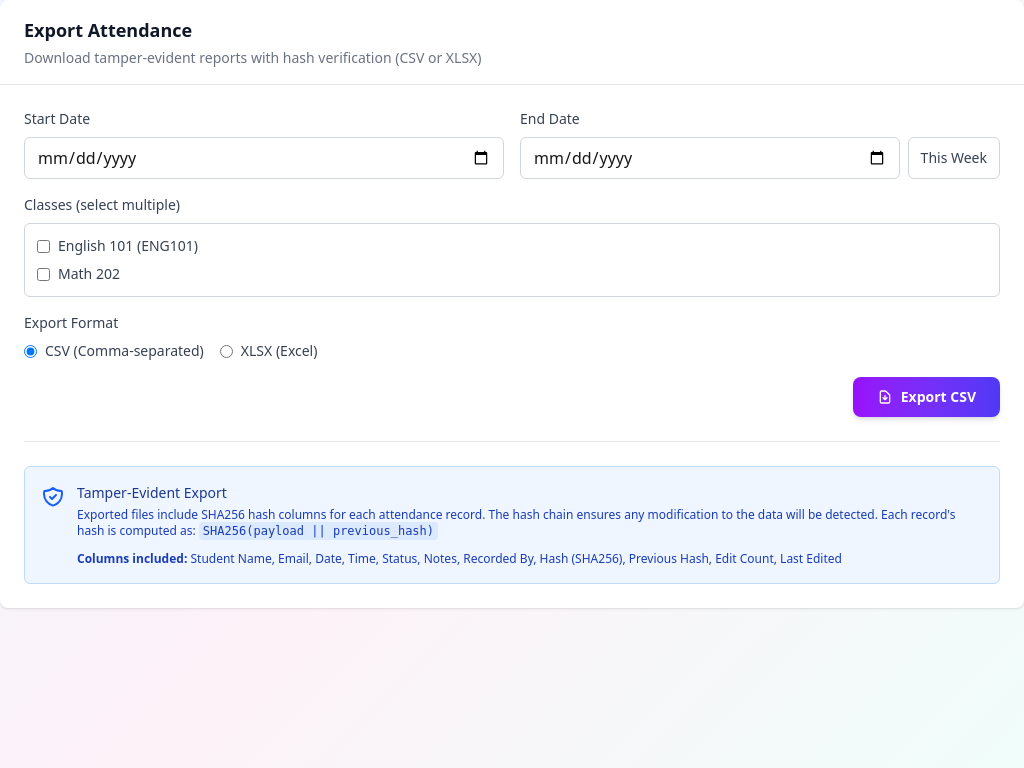
Scenario: AttendanceExport Component › should display error message when export fails
Note: Select a class and set dates
Click the checkbox labelled "English 101 (ENG101)".
click(44, 246)  # box [37,240,50,252]
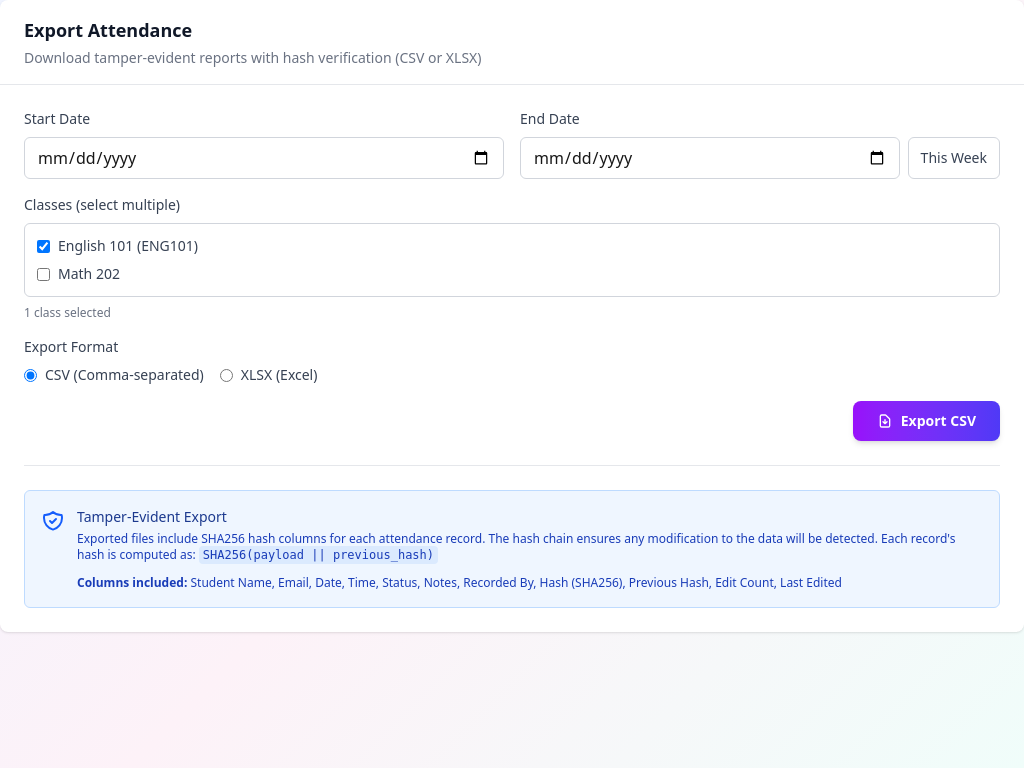
Type "2024-01-08" into the date field labelled "Start Date".
click(264, 158); type("2024-01-08")  # box [24,137,504,179]
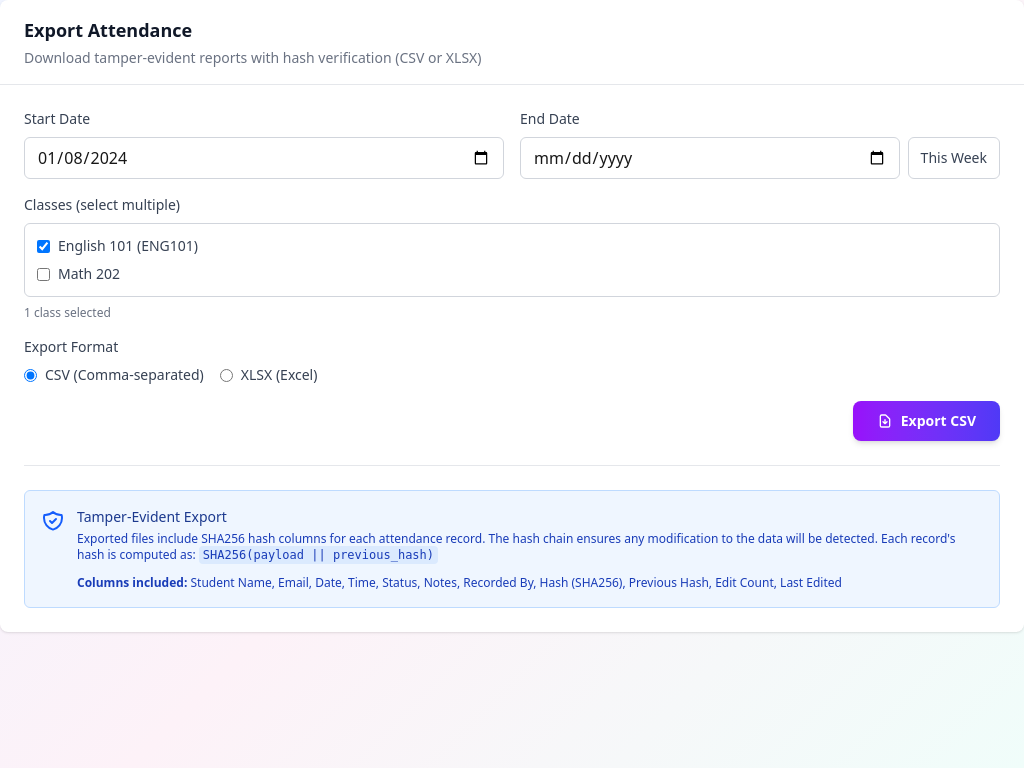
Type "2024-01-14" into the date field labelled "End Date".
click(710, 158); type("2024-01-14")  # box [520,137,900,179]
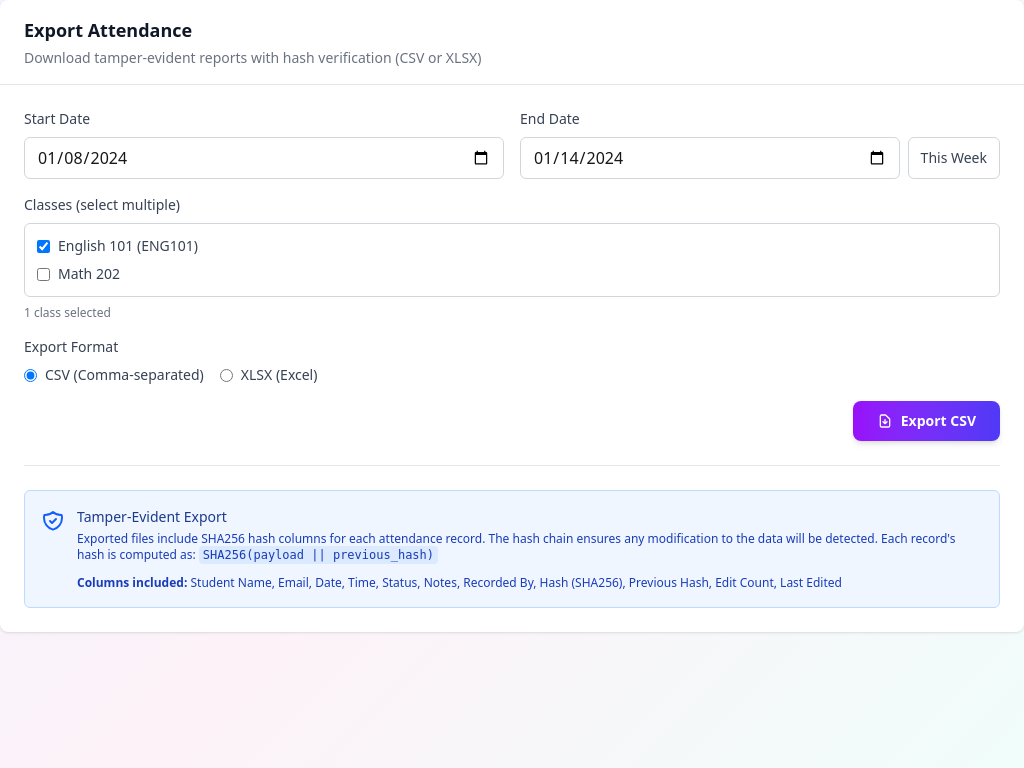
Click the button "Export CSV".
click(926, 421)  # box [853,401,1000,441]
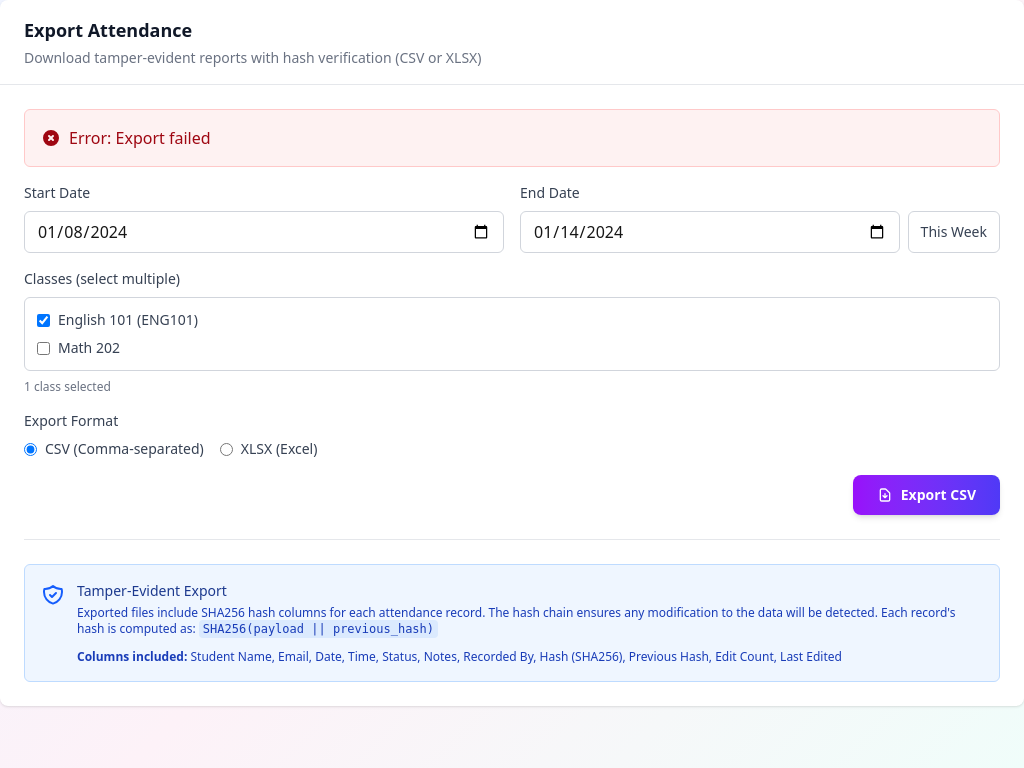
Check: the text "Error: Export failed" is shown, box [69,126,211,150]
